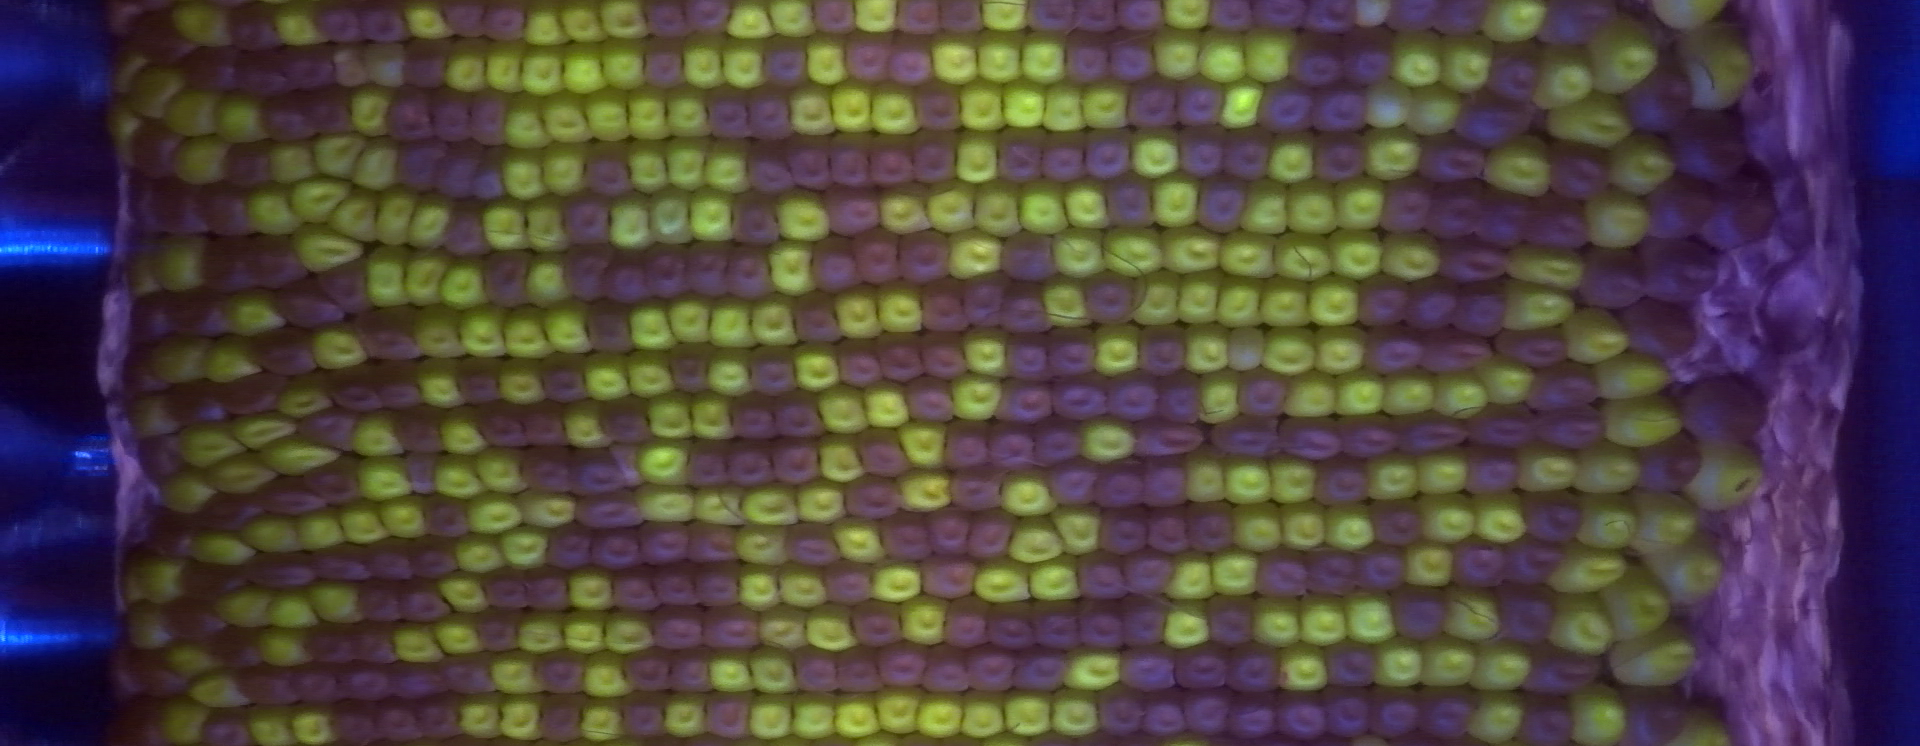fluorescent: (1689, 432, 1764, 506), (1600, 568, 1671, 642), (1682, 23, 1749, 102), (1613, 626, 1696, 680), (1629, 492, 1696, 556), (1550, 99, 1633, 147), (1545, 598, 1614, 655), (1596, 22, 1649, 94), (147, 230, 204, 294), (1506, 243, 1584, 289), (1656, 545, 1723, 599), (1441, 589, 1504, 643), (1566, 309, 1629, 361), (1553, 548, 1622, 594), (1584, 195, 1644, 247), (1387, 27, 1442, 83), (1603, 404, 1681, 443), (1491, 138, 1548, 192), (1471, 492, 1528, 544), (1599, 352, 1670, 393), (773, 190, 829, 241), (1614, 140, 1671, 190), (135, 552, 185, 610), (1537, 47, 1586, 105), (260, 437, 340, 473), (1462, 693, 1524, 739), (171, 136, 228, 186), (1584, 492, 1633, 550), (291, 232, 362, 271), (356, 452, 410, 503), (216, 93, 269, 143), (151, 472, 216, 513), (1501, 285, 1570, 325), (149, 338, 212, 381), (173, 426, 242, 464), (1409, 82, 1461, 134), (327, 194, 381, 243), (1362, 80, 1411, 134), (1382, 236, 1439, 283), (122, 66, 180, 111), (1329, 232, 1386, 277), (1240, 178, 1284, 236), (1242, 29, 1294, 78), (1107, 227, 1161, 274), (269, 1, 324, 48), (165, 89, 222, 135), (1081, 419, 1138, 464), (1483, 2, 1540, 47), (1018, 181, 1068, 232), (293, 179, 348, 224), (1136, 273, 1180, 330), (1251, 593, 1296, 649), (636, 440, 686, 489), (1572, 688, 1622, 737), (1052, 232, 1103, 279), (765, 245, 817, 293), (1232, 503, 1280, 555), (1298, 597, 1349, 644), (1521, 441, 1573, 488), (170, 1, 229, 43), (1280, 371, 1333, 416), (204, 454, 276, 489), (486, 197, 530, 252), (1278, 235, 1335, 278), (1095, 322, 1138, 379), (1042, 282, 1090, 332), (1575, 450, 1632, 491), (1344, 598, 1402, 639), (926, 36, 977, 82), (871, 85, 923, 130), (350, 82, 396, 135), (367, 252, 413, 305), (414, 312, 467, 358), (443, 40, 487, 94), (707, 298, 751, 352), (1180, 450, 1224, 503), (1473, 644, 1532, 685), (606, 192, 653, 243), (833, 285, 879, 336), (1153, 26, 1199, 77), (1367, 131, 1418, 176), (1291, 180, 1336, 232), (819, 385, 864, 436), (457, 306, 501, 359), (806, 606, 858, 650), (1315, 327, 1369, 370), (829, 85, 877, 132), (789, 85, 836, 132), (350, 141, 399, 187), (1063, 183, 1109, 232), (961, 332, 1010, 379), (1163, 604, 1212, 650), (1417, 646, 1477, 684), (306, 327, 362, 367), (1081, 82, 1131, 127), (1444, 37, 1488, 88), (1368, 451, 1412, 502), (189, 527, 250, 563), (1420, 497, 1474, 539), (1164, 230, 1220, 271), (831, 518, 887, 559), (1198, 31, 1244, 78), (1223, 461, 1271, 507), (588, 92, 633, 141), (1011, 516, 1060, 561), (249, 187, 299, 232), (228, 290, 278, 334), (1310, 273, 1354, 323), (1179, 267, 1218, 323), (1478, 363, 1534, 402), (998, 473, 1054, 512), (1199, 367, 1242, 419), (895, 424, 947, 467), (376, 187, 414, 245), (122, 236, 157, 300), (349, 412, 396, 458), (1022, 36, 1068, 83), (1150, 180, 1198, 225), (629, 299, 675, 347), (1223, 232, 1273, 274), (1373, 641, 1423, 684), (681, 33, 722, 85), (504, 98, 550, 145), (313, 132, 360, 178), (747, 695, 792, 741), (1385, 372, 1433, 416), (1281, 499, 1325, 546), (627, 89, 670, 138), (504, 309, 547, 358), (1417, 456, 1466, 499), (705, 650, 754, 693), (263, 141, 313, 183), (1272, 132, 1314, 183), (583, 650, 624, 701), (1278, 644, 1329, 686), (650, 194, 691, 245), (1220, 276, 1260, 327), (1430, 379, 1483, 418), (1183, 325, 1227, 371), (313, 578, 360, 622), (1210, 552, 1256, 597), (806, 33, 849, 81), (1041, 85, 1089, 127), (702, 350, 744, 398), (1264, 330, 1311, 372), (1051, 510, 1098, 552), (1403, 543, 1451, 586), (951, 236, 1005, 274), (544, 100, 593, 142), (708, 138, 749, 187), (437, 262, 486, 304), (1332, 370, 1381, 412), (900, 470, 949, 512), (547, 303, 588, 353), (1266, 274, 1307, 325), (262, 592, 312, 632), (234, 416, 295, 450), (622, 356, 673, 396), (453, 533, 504, 572), (1004, 83, 1049, 127), (904, 597, 948, 642), (160, 695, 206, 739), (407, 198, 449, 245), (129, 394, 175, 437), (474, 448, 520, 491), (121, 608, 169, 649), (736, 565, 778, 612), (545, 145, 585, 194), (950, 379, 999, 419), (432, 454, 481, 495), (1062, 650, 1116, 687), (820, 434, 860, 484), (958, 130, 993, 185), (746, 484, 797, 522), (958, 81, 1002, 125), (500, 152, 542, 197), (928, 184, 971, 229), (524, 202, 566, 249), (609, 610, 655, 652), (975, 562, 1027, 599), (501, 360, 541, 408), (722, 40, 762, 89), (980, 29, 1019, 78), (239, 518, 299, 550), (334, 506, 384, 544), (435, 575, 485, 612), (560, 1, 602, 45), (520, 47, 563, 91), (1335, 183, 1379, 225), (489, 657, 540, 693), (878, 284, 920, 330), (1266, 459, 1311, 501), (736, 523, 782, 563), (1031, 561, 1078, 601), (747, 649, 793, 690), (651, 388, 691, 436), (291, 514, 344, 550), (638, 488, 691, 523), (598, 1, 647, 39), (669, 85, 707, 134), (693, 191, 731, 240), (978, 189, 1016, 238), (1654, 1, 1727, 27), (520, 492, 574, 527), (571, 401, 607, 451), (419, 363, 462, 405), (209, 339, 255, 380), (792, 347, 840, 385), (797, 484, 845, 522), (628, 138, 662, 191), (409, 254, 443, 306), (583, 352, 620, 401), (792, 692, 835, 734), (400, 2, 451, 38), (391, 624, 441, 659), (280, 383, 334, 416), (1166, 559, 1211, 598), (216, 589, 267, 624), (670, 135, 702, 190), (606, 36, 639, 88), (527, 261, 568, 303), (836, 695, 878, 736), (1329, 508, 1371, 549), (916, 695, 966, 729), (871, 563, 916, 601), (566, 42, 599, 93), (485, 47, 520, 94), (444, 407, 480, 454), (1678, 710, 1725, 746), (187, 677, 247, 706), (1135, 134, 1174, 176), (433, 620, 482, 654), (961, 696, 1004, 735), (160, 643, 213, 675), (669, 300, 705, 345), (470, 497, 517, 533), (756, 611, 803, 646), (520, 612, 562, 652), (874, 691, 913, 733), (751, 304, 793, 342), (500, 528, 542, 566), (1054, 688, 1091, 733), (111, 105, 143, 156), (725, 4, 771, 38), (696, 392, 730, 439), (376, 503, 422, 538), (525, 5, 566, 44), (1008, 695, 1048, 734), (664, 698, 705, 736), (769, 1, 817, 34), (864, 391, 910, 425), (251, 706, 293, 742), (887, 189, 922, 232), (255, 633, 309, 661), (569, 575, 609, 612), (500, 699, 542, 734), (694, 490, 740, 522), (781, 571, 822, 606), (1228, 85, 1261, 127), (459, 699, 496, 736), (980, 2, 1029, 29), (583, 704, 621, 737), (1356, 1, 1391, 36), (566, 616, 604, 648), (852, 2, 895, 29), (293, 709, 331, 737), (1167, 2, 1205, 26)
nonfluorescent: (1678, 369, 1776, 442), (1640, 235, 1728, 306), (1704, 167, 1779, 247), (1679, 111, 1749, 179), (1575, 250, 1647, 312), (1633, 59, 1693, 134), (1543, 137, 1615, 197), (1616, 688, 1690, 746), (235, 234, 311, 289), (1644, 178, 1713, 238), (1633, 434, 1704, 491), (1536, 1, 1619, 49), (130, 9, 200, 65), (1621, 301, 1692, 356), (1498, 586, 1559, 646), (1167, 73, 1229, 132), (1452, 94, 1536, 138), (1389, 586, 1449, 646), (989, 233, 1063, 282), (1472, 183, 1528, 246), (1490, 45, 1548, 107), (1521, 646, 1603, 688), (1524, 198, 1589, 252), (645, 241, 700, 303), (358, 307, 421, 360), (1501, 533, 1565, 586), (1417, 686, 1480, 739), (1446, 534, 1511, 586), (1433, 243, 1512, 284), (759, 36, 818, 92), (996, 332, 1056, 387), (1417, 186, 1478, 240), (1524, 488, 1586, 541), (485, 249, 538, 311), (220, 374, 287, 423), (1376, 176, 1429, 238), (842, 473, 910, 521), (1060, 34, 1123, 86), (1310, 85, 1374, 135), (820, 192, 885, 241), (1080, 267, 1136, 323), (1404, 279, 1462, 334), (1420, 138, 1490, 184), (313, 544, 383, 589), (1537, 408, 1611, 450), (1037, 594, 1092, 650), (729, 243, 782, 300), (1351, 271, 1408, 325), (1097, 457, 1151, 514), (249, 332, 321, 375), (1041, 457, 1100, 510), (1221, 642, 1280, 695), (871, 134, 922, 194), (584, 142, 636, 202), (201, 181, 252, 241), (1422, 328, 1495, 370), (765, 439, 828, 488), (1320, 641, 1382, 690), (638, 519, 702, 567), (1172, 642, 1229, 695), (1321, 688, 1380, 740), (126, 649, 186, 699), (1196, 176, 1245, 238), (1213, 415, 1283, 458), (636, 40, 691, 94), (1236, 369, 1291, 423), (1140, 456, 1195, 510), (1450, 278, 1502, 334), (958, 271, 1004, 334), (298, 461, 361, 507), (1221, 124, 1271, 183), (167, 292, 231, 337), (1342, 414, 1407, 459), (787, 136, 836, 196), (1136, 322, 1185, 382), (245, 545, 313, 588), (157, 178, 204, 239), (1498, 331, 1570, 371), (943, 469, 1005, 516), (900, 375, 954, 429), (1098, 173, 1153, 225), (373, 360, 429, 413), (1342, 38, 1398, 89), (225, 1, 283, 51), (1253, 83, 1310, 134), (1207, 588, 1258, 646), (130, 120, 175, 184), (1286, 40, 1346, 88), (847, 600, 907, 648), (302, 626, 371, 668), (1003, 653, 1071, 695), (744, 86, 791, 147), (913, 132, 965, 187), (1521, 695, 1576, 746), (388, 403, 444, 453), (613, 646, 670, 696), (687, 563, 744, 612), (916, 552, 973, 601), (1078, 599, 1127, 657), (184, 42, 242, 89), (566, 450, 629, 494), (157, 595, 220, 639), (700, 608, 764, 652), (211, 622, 269, 670), (915, 647, 973, 695), (1226, 696, 1284, 744), (820, 561, 880, 608), (1473, 407, 1538, 450), (813, 233, 858, 294), (1311, 457, 1373, 502), (747, 147, 800, 200), (599, 394, 651, 447), (566, 492, 647, 527), (1304, 544, 1356, 598), (396, 141, 446, 196), (1044, 326, 1100, 376), (857, 428, 912, 478), (1120, 597, 1176, 647), (1371, 500, 1428, 549), (276, 287, 342, 328), (992, 381, 1054, 425), (1526, 363, 1592, 404), (1462, 451, 1524, 495), (876, 516, 933, 563), (429, 86, 475, 145), (563, 249, 610, 307), (468, 86, 511, 149), (688, 241, 733, 301), (666, 339, 711, 399), (1049, 377, 1109, 423), (743, 347, 796, 398), (383, 88, 433, 142), (898, 229, 948, 283), (833, 339, 887, 390), (1258, 548, 1311, 598), (831, 647, 885, 697), (959, 642, 1013, 692), (842, 36, 898, 85), (790, 292, 845, 341), (729, 394, 784, 443), (602, 565, 658, 614), (238, 661, 299, 706), (531, 650, 587, 699), (1310, 134, 1370, 178), (1282, 416, 1342, 461), (913, 82, 962, 136), (1124, 78, 1178, 127), (588, 526, 642, 575), (1074, 550, 1128, 599), (454, 352, 502, 407), (876, 639, 923, 695), (1277, 691, 1325, 746), (609, 246, 651, 307), (989, 598, 1036, 654), (1402, 414, 1473, 451), (785, 524, 842, 570), (322, 265, 372, 316), (966, 511, 1018, 561), (538, 696, 589, 746), (730, 195, 779, 247), (148, 511, 203, 557), (1134, 425, 1209, 459), (360, 1, 418, 45), (309, 88, 359, 138), (1127, 549, 1177, 599), (587, 303, 636, 354), (686, 516, 735, 567), (387, 657, 446, 699), (775, 392, 823, 445), (1107, 376, 1160, 424), (1152, 374, 1200, 426), (522, 447, 574, 495), (354, 579, 407, 627), (1357, 541, 1404, 594), (1109, 40, 1164, 86), (1085, 127, 1130, 183), (1122, 646, 1177, 691), (478, 566, 528, 615), (1371, 688, 1422, 737), (920, 337, 971, 385), (549, 523, 600, 571), (402, 581, 453, 628), (520, 565, 572, 612), (1097, 690, 1149, 737), (1188, 506, 1240, 552), (300, 408, 359, 450), (443, 206, 487, 261), (830, 134, 871, 194), (307, 1, 364, 44), (637, 1, 698, 40), (561, 198, 610, 247), (882, 330, 932, 377), (651, 560, 699, 610), (1000, 132, 1047, 184), (942, 594, 988, 646), (260, 100, 313, 145), (857, 232, 901, 285), (118, 345, 160, 401), (441, 650, 497, 692), (791, 646, 839, 695), (404, 40, 451, 91), (1042, 131, 1087, 183), (170, 379, 222, 424), (279, 48, 340, 86), (702, 88, 746, 141), (224, 141, 277, 185), (354, 624, 407, 668), (331, 371, 384, 414), (942, 423, 989, 470), (422, 492, 470, 540), (729, 448, 778, 495), (542, 352, 584, 405), (337, 699, 384, 746), (369, 537, 414, 586), (1367, 334, 1417, 379), (991, 426, 1041, 470), (1179, 127, 1222, 179), (931, 1, 984, 42), (1096, 513, 1150, 554), (1183, 695, 1229, 741), (888, 44, 936, 89), (440, 149, 479, 205), (922, 285, 966, 334), (419, 695, 460, 746), (202, 236, 242, 289), (653, 608, 705, 648), (293, 666, 347, 706), (520, 404, 567, 450), (662, 650, 708, 697), (708, 696, 754, 741), (413, 535, 460, 579), (475, 407, 524, 450), (1300, 1, 1356, 39), (241, 58, 291, 99), (198, 704, 249, 746), (339, 661, 393, 699), (208, 495, 266, 530), (180, 561, 238, 597), (378, 697, 420, 746), (137, 431, 178, 481), (478, 1, 524, 44), (1002, 289, 1044, 336), (931, 507, 973, 554), (471, 153, 508, 207), (1033, 428, 1085, 465), (1142, 695, 1187, 739), (122, 300, 170, 341), (890, 1, 942, 38), (1247, 1, 1305, 33), (692, 439, 729, 489), (1147, 506, 1188, 551), (1024, 1, 1075, 37), (400, 453, 440, 500), (623, 698, 666, 740), (684, 1, 731, 39), (809, 1, 861, 36), (1431, 1, 1480, 37), (440, 1, 482, 42), (1202, 1, 1253, 36), (1382, 1, 1434, 34), (268, 485, 323, 516), (1112, 1, 1162, 33), (1074, 1, 1120, 34), (474, 617, 520, 650)
